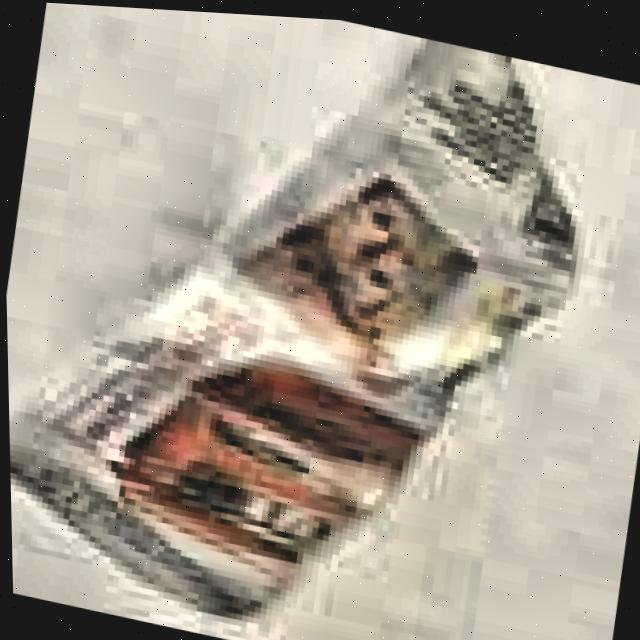paper: (7, 33, 576, 619)
